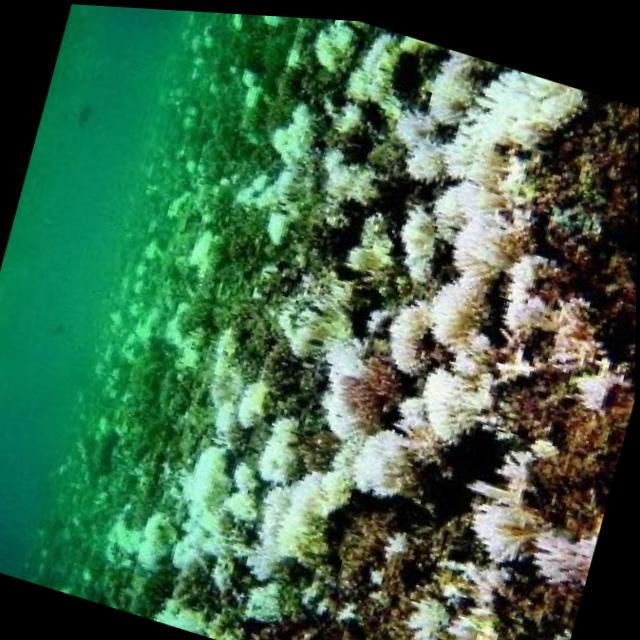Bleached Coral: (46, 2, 640, 640)
